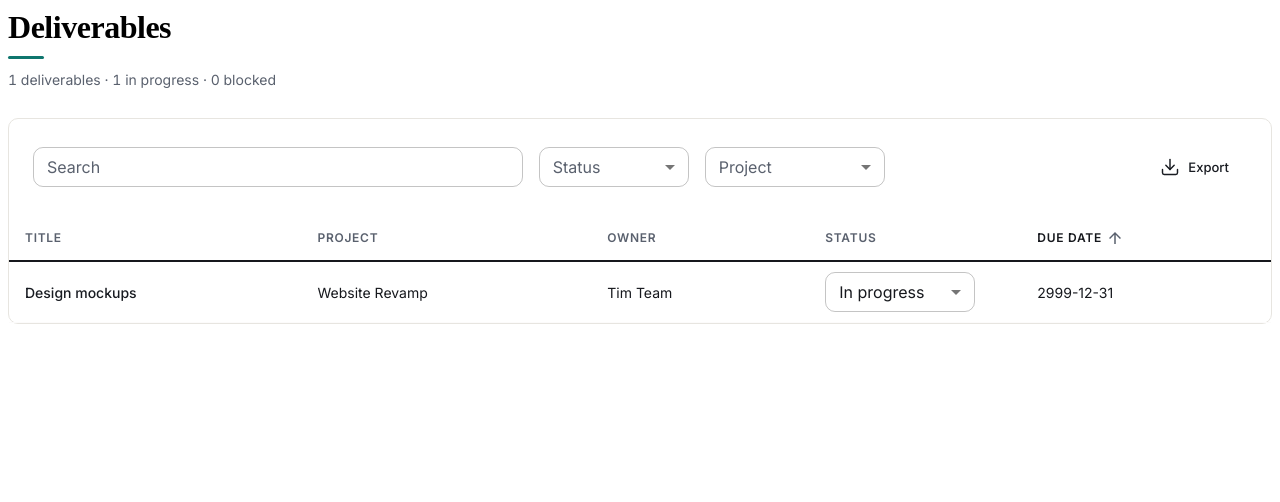
Test: Deliverables page › inline status updates › surfaces an error when the status update fails
Check: the link "Design mockups" is shown, box left=25, top=284, right=137, bottom=301
Click the dropdown labelled "In progress": [882, 292] box left=839, top=282, right=924, bottom=302
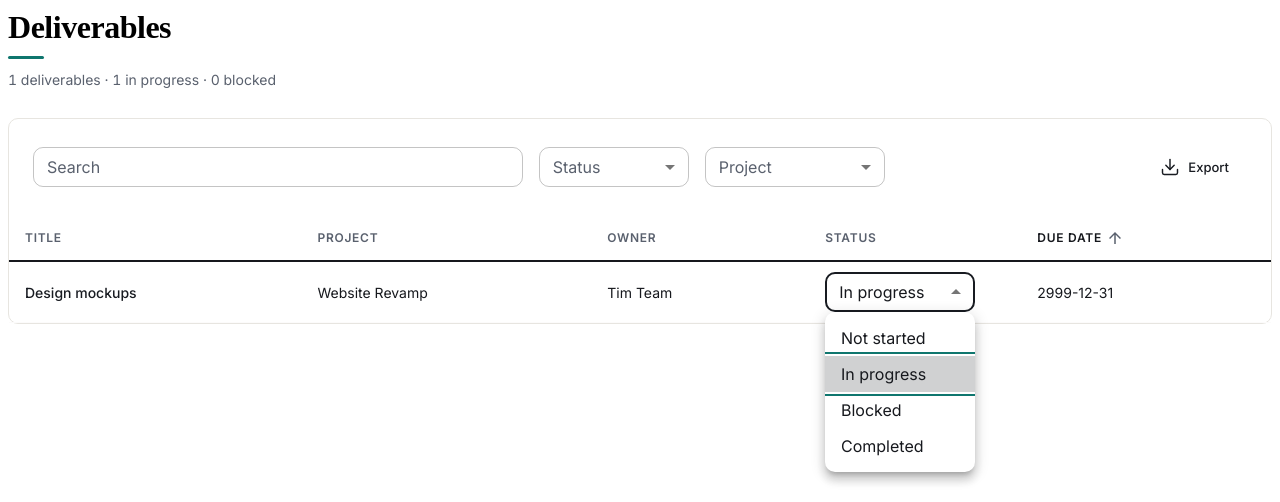
Click the option "Blocked": [871, 410] box left=841, top=400, right=902, bottom=420
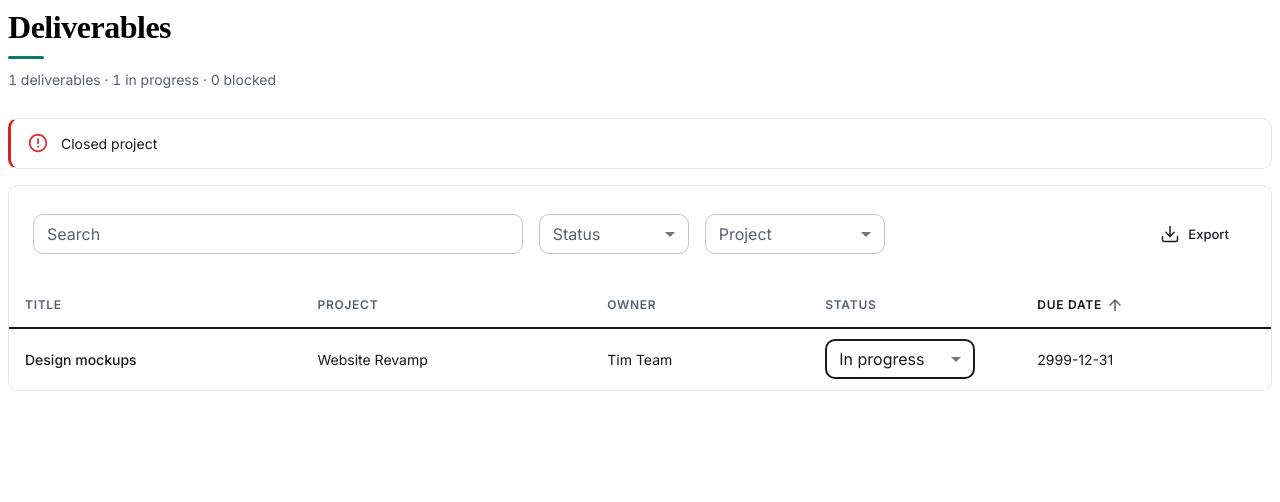
Check: the text "Closed project" is shown, box left=61, top=135, right=157, bottom=152
